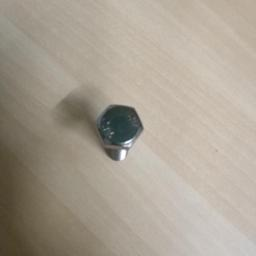screwtype2silver: (90, 100, 145, 166)
